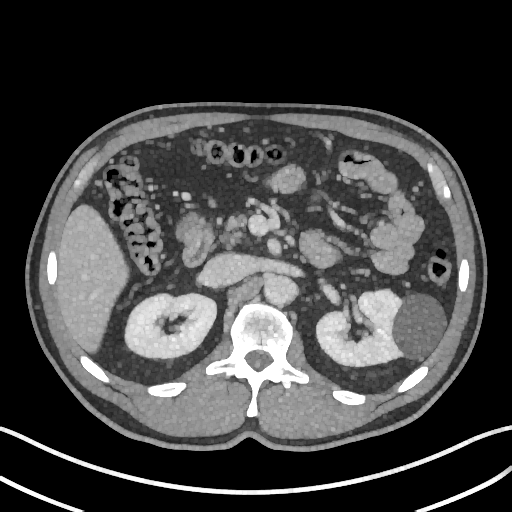Lesion: (387, 290, 449, 365)
